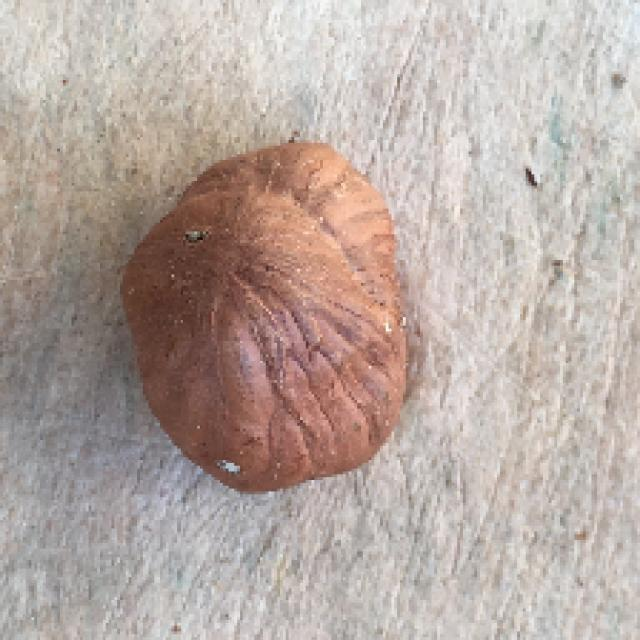hazelnut: (115, 130, 422, 492)
